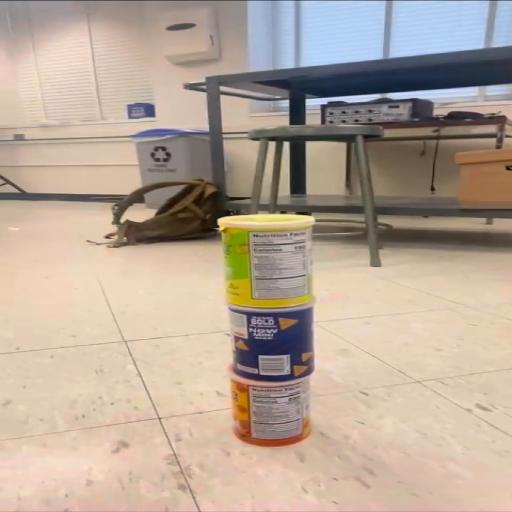pringle can: (219, 215, 314, 308), (230, 303, 314, 381), (231, 372, 311, 446)
